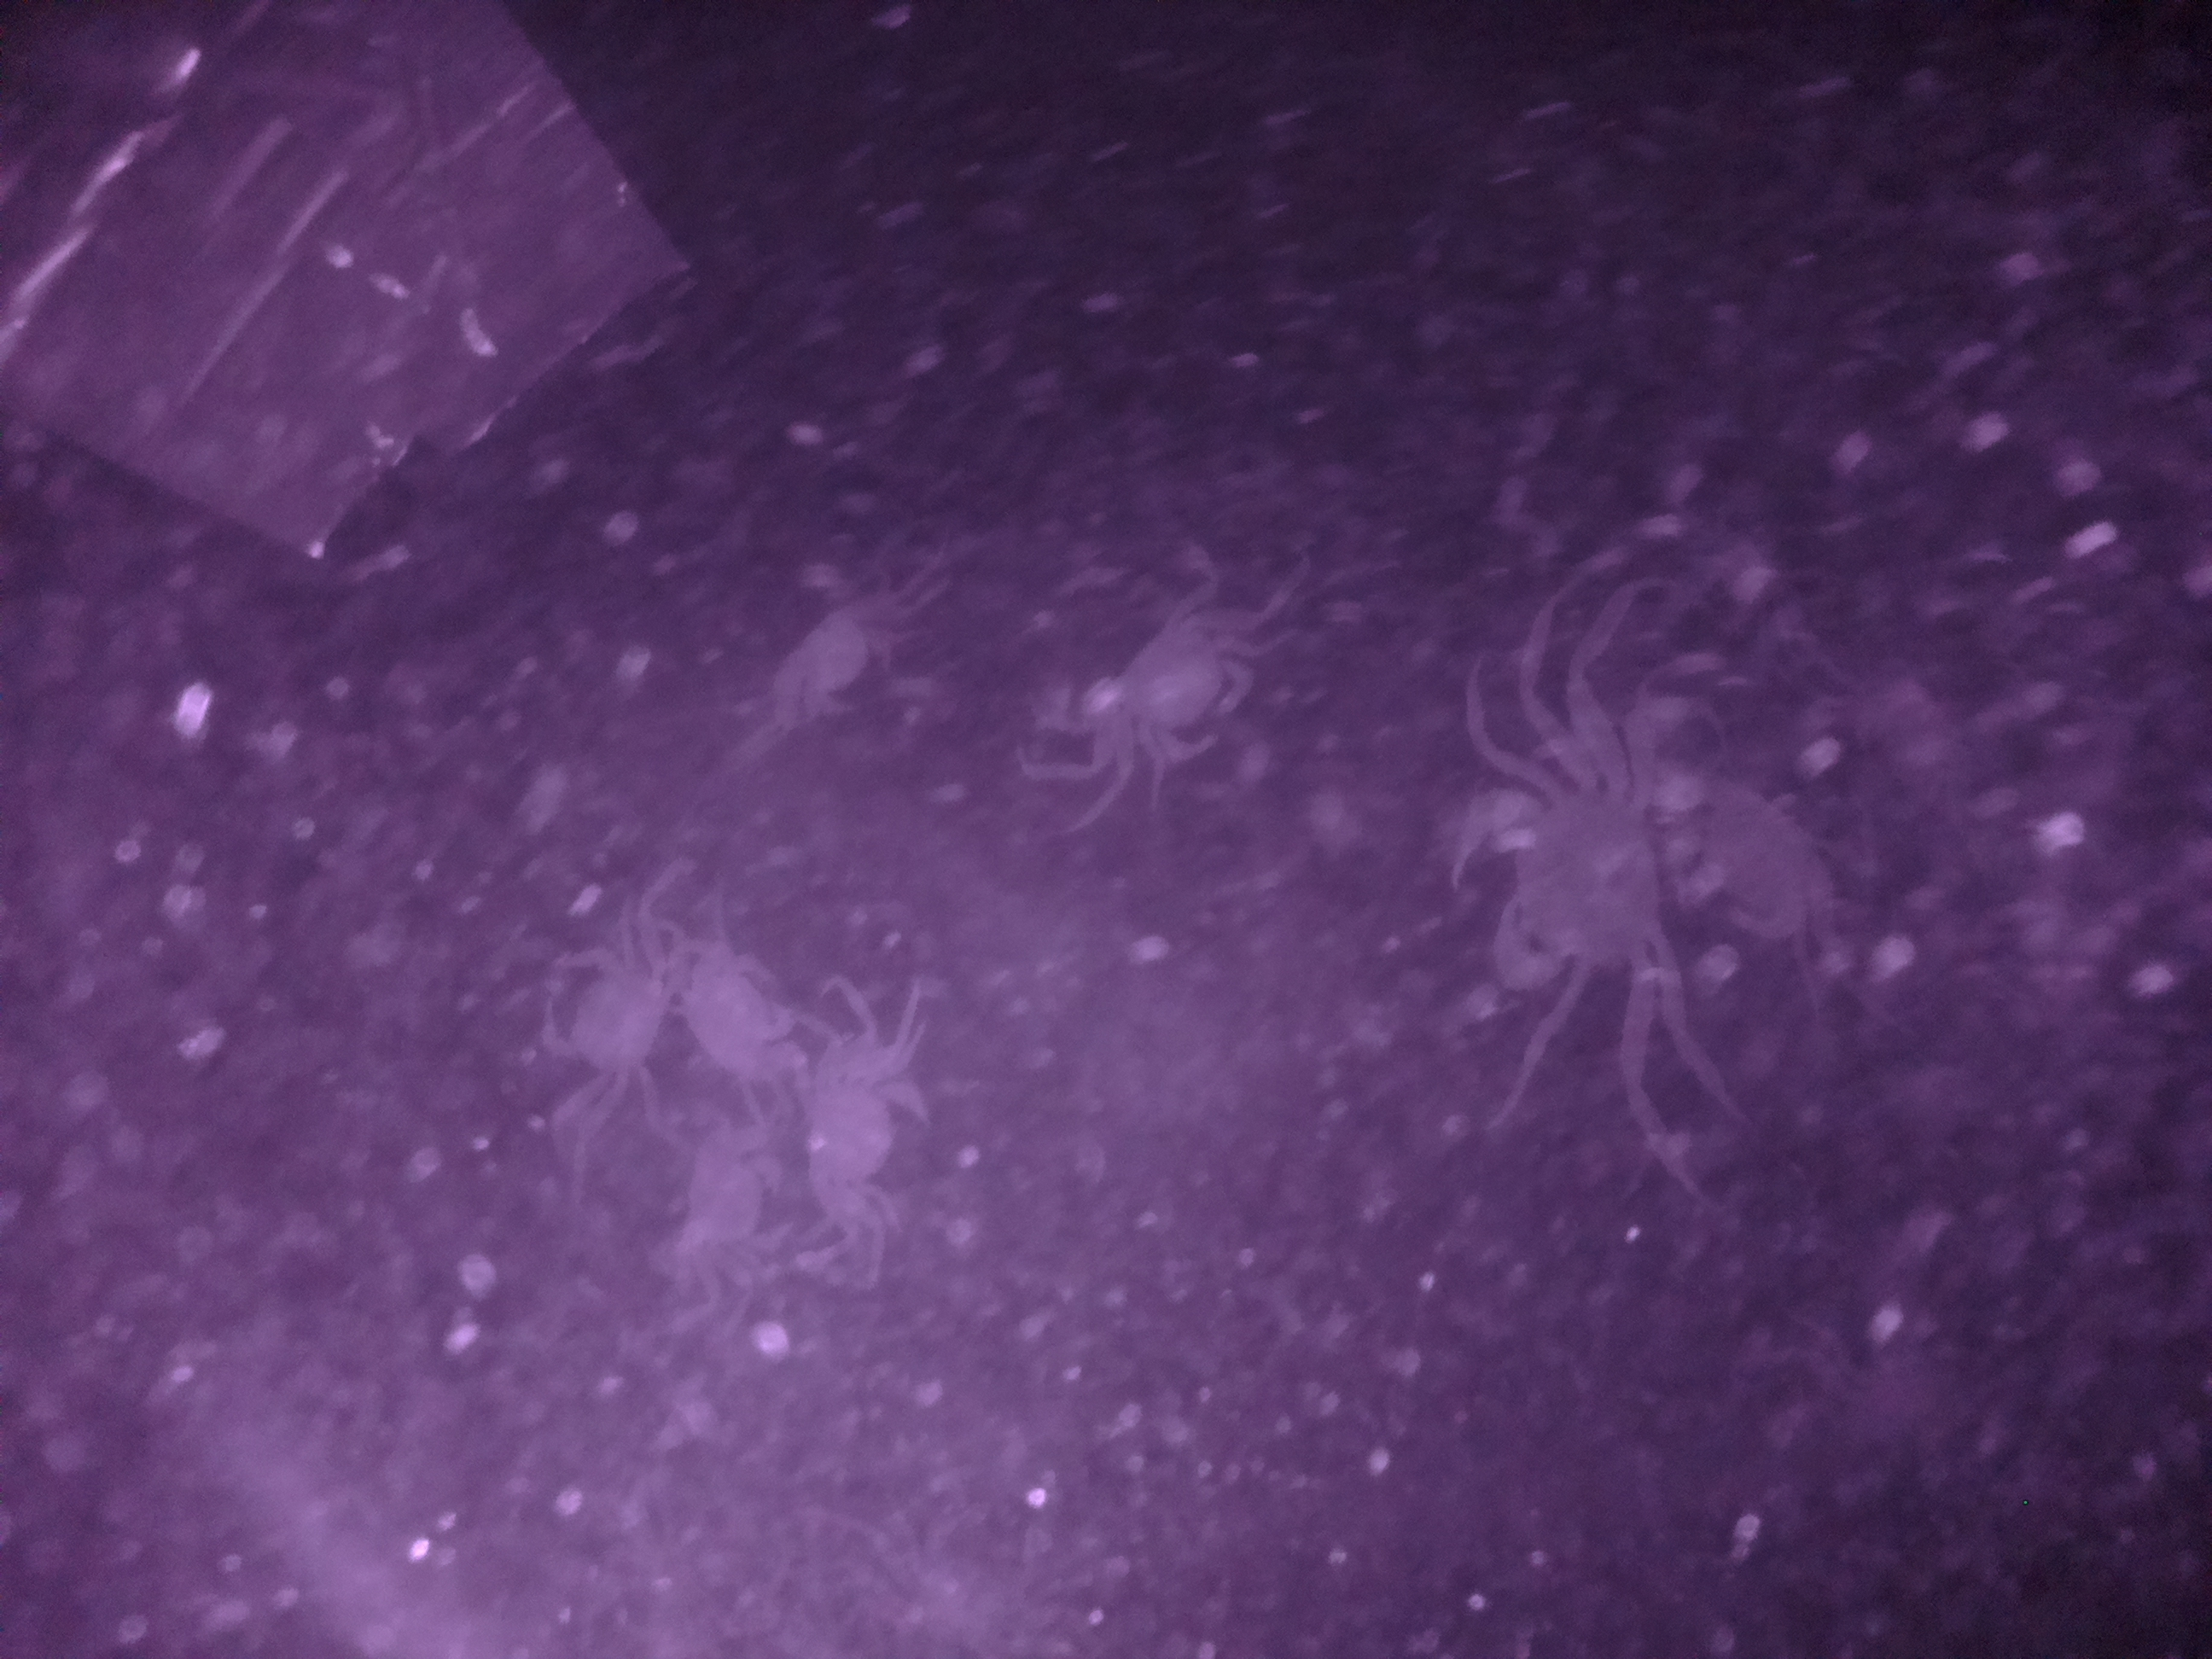Crab: (1423, 725, 1700, 1035), (524, 880, 705, 1103), (1075, 589, 1275, 775), (794, 1012, 941, 1249)
